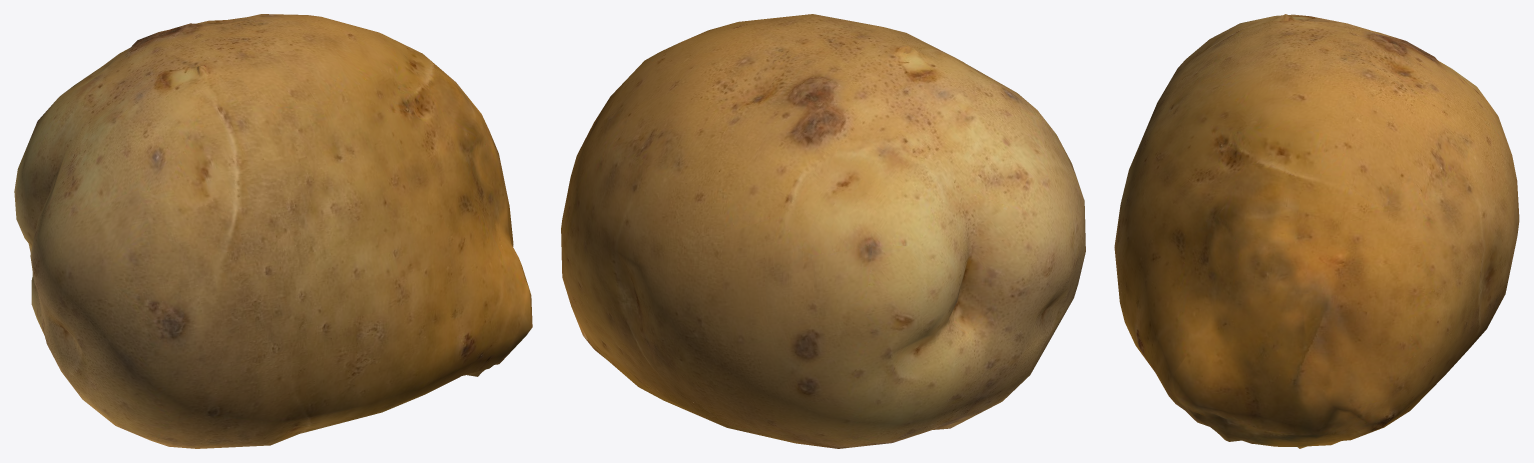
Rendered from potato_b.gltf.
3 views of the same model, side by side, from view 1: azimuth 30°, elevation 25°; view 2: azimuth 150°, elevation 25°; view 3: azimuth 270°, elevation 25° (orthographic). The views are drawn at different scales.
Parts seen in each view (by area): view 1: potato_b2; view 2: potato_b2; view 3: potato_b2.
Part boxes in pixels (x1=…): potato_b2: x1=14, y1=14, x2=532, y2=448; potato_b2: x1=561, y1=14, x2=1085, y2=448; potato_b2: x1=1114, y1=14, x2=1519, y2=448.
Bounding box in the file's own units: 99.69 × 78.29 × 82.56.
Materials: 1 (1 with a texture image).
